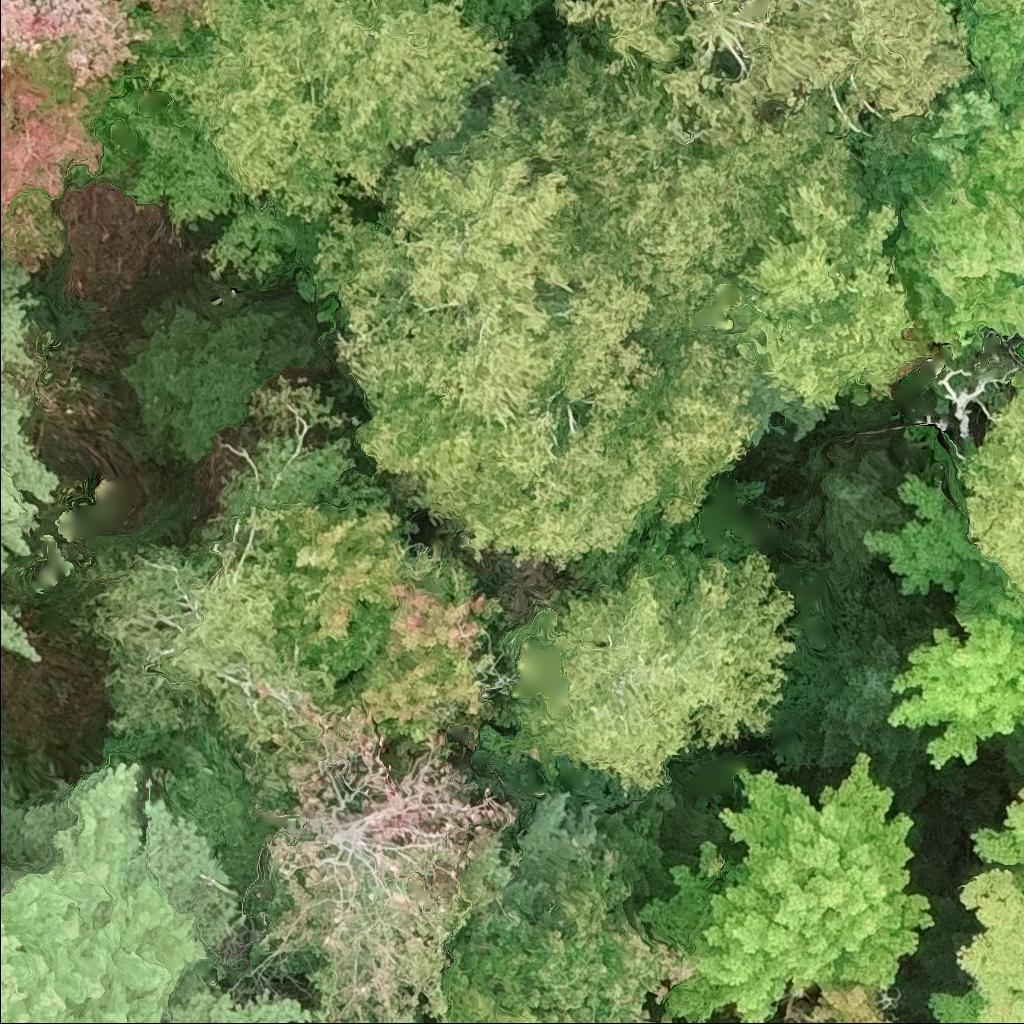crown: (309, 138, 752, 573), (470, 37, 876, 351), (142, 0, 513, 236), (254, 698, 520, 1023), (0, 757, 318, 1023), (636, 751, 937, 1023), (501, 544, 802, 800), (78, 503, 356, 756), (551, 0, 980, 145), (272, 494, 506, 756), (753, 579, 972, 814), (441, 838, 702, 1023), (737, 181, 933, 413), (100, 70, 302, 281), (892, 100, 1023, 360), (117, 296, 314, 466), (0, 43, 123, 278), (886, 584, 1023, 770), (862, 470, 1015, 614), (0, 256, 60, 582), (955, 782, 1023, 1023), (808, 434, 911, 592), (0, 0, 160, 90), (964, 390, 1023, 591), (469, 0, 545, 56), (808, 976, 894, 1023), (0, 594, 47, 670), (138, 0, 205, 51), (925, 986, 983, 1023), (970, 0, 1023, 39), (1021, 757, 1023, 771)
